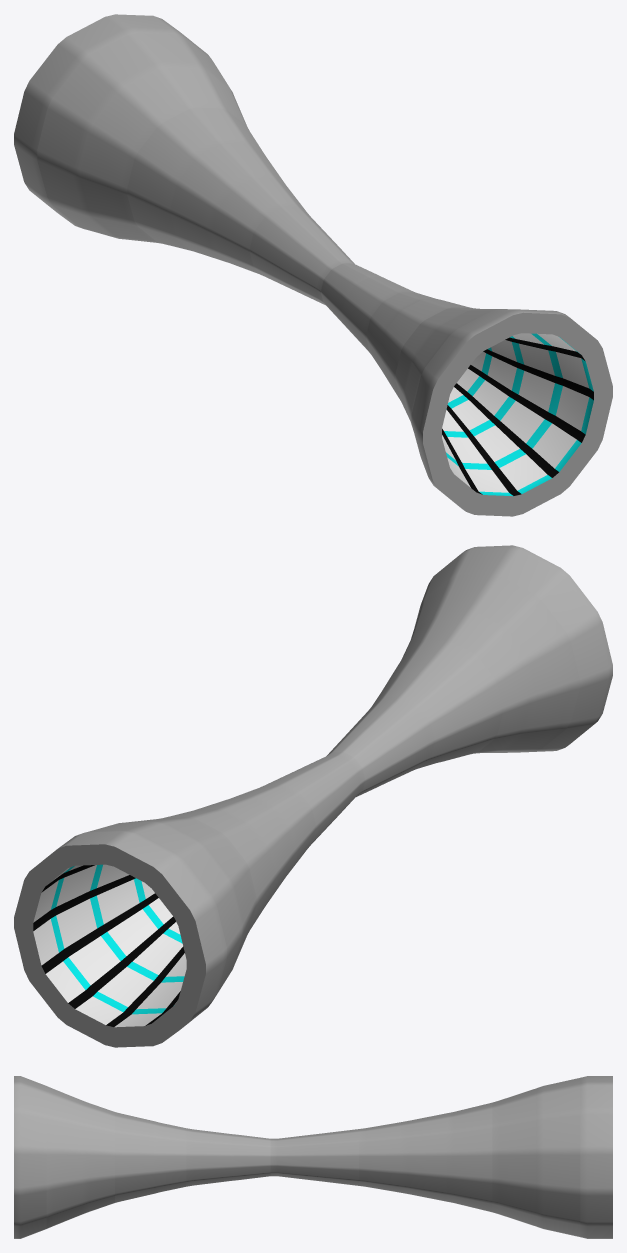
The model's file is 03-Narrow-01.fbx.
The picture shows the model from 3 angles, top to bottom: view 1: azimuth 30°, elevation 25°; view 2: azimuth 150°, elevation 25°; view 3: azimuth 270°, elevation 25°; orthographic projection. The views are drawn at different scales.
Visible parts, largest first — view 1: Base16; view 2: Base16; view 3: Base16.
Boxes of the visible parts, x1,y1,x2,y2 form: Base16: (14, 14, 612, 516); Base16: (14, 545, 612, 1047); Base16: (14, 1076, 612, 1238).
Size of the model in its own units: 4993 by 5006 by 18389.
